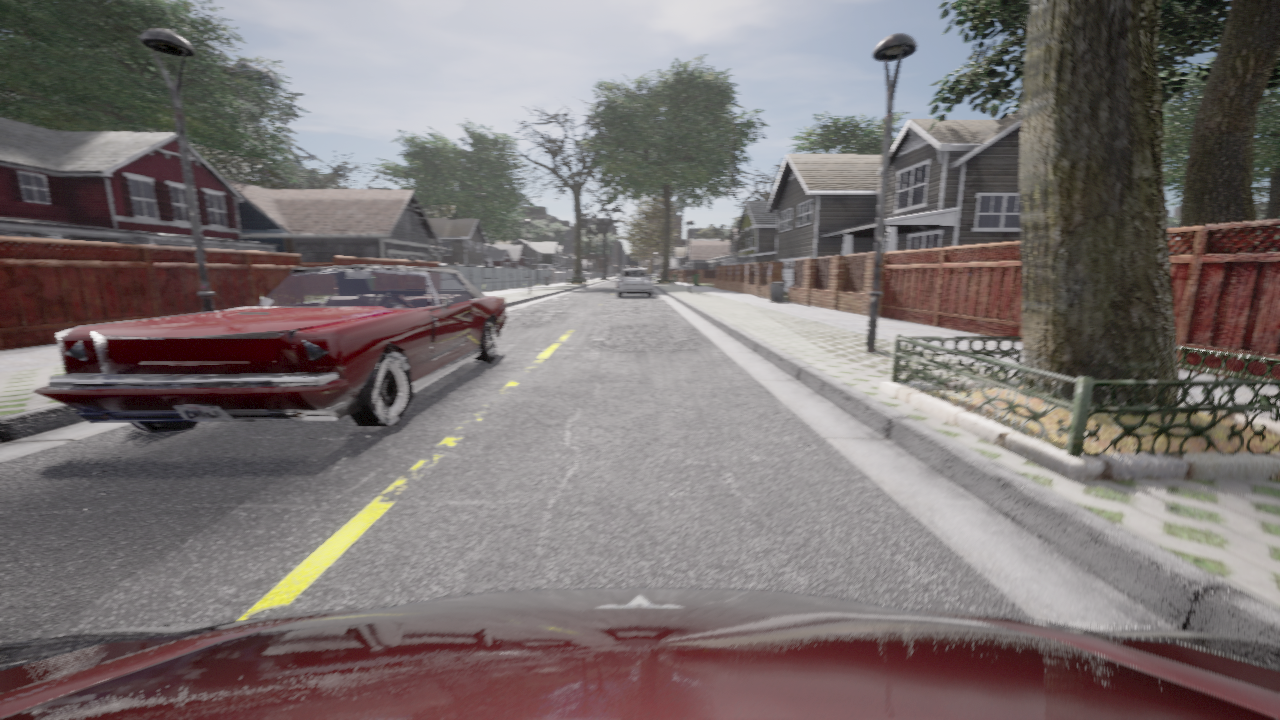cyclist: (0, 588, 1279, 719), (34, 265, 506, 432), (617, 268, 652, 297)
